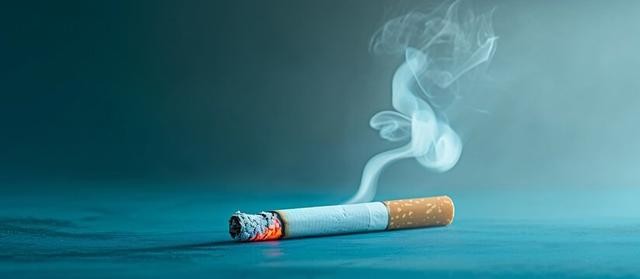Cigarette: (228, 194, 455, 242)
